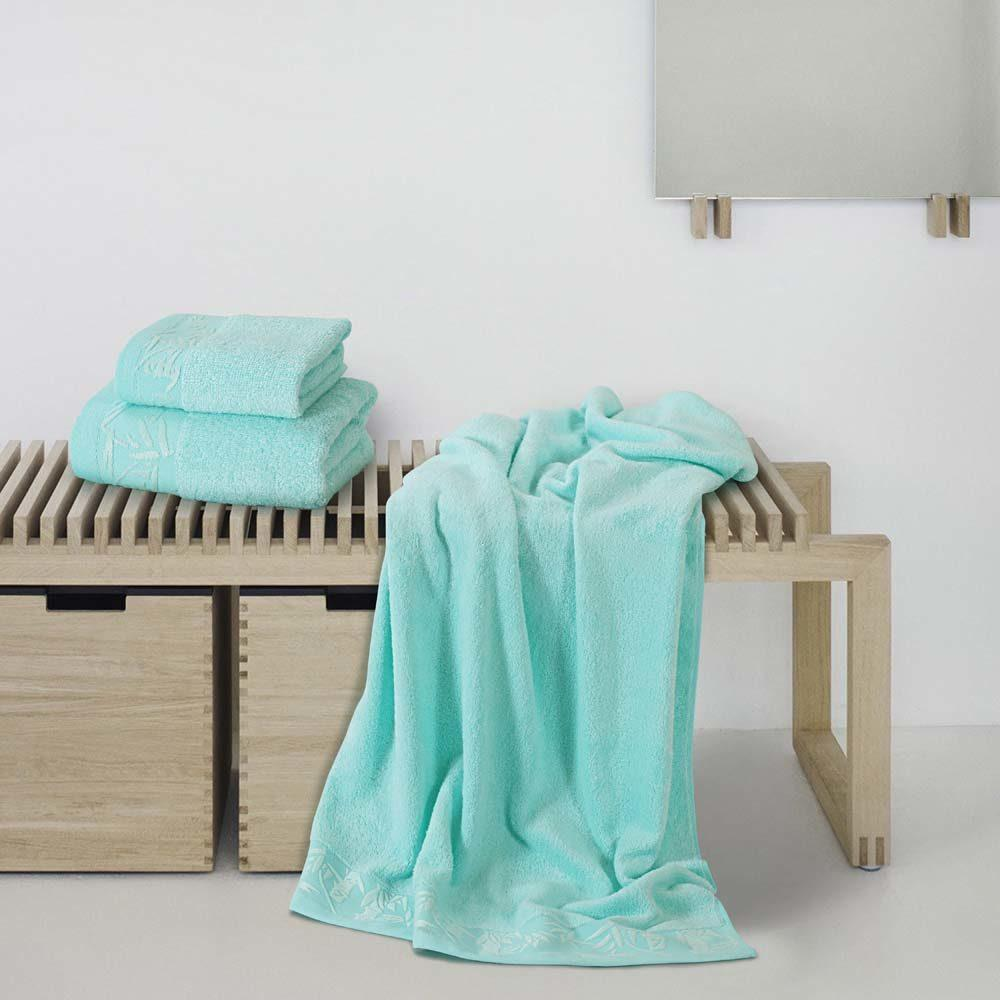Towel: (68, 277, 398, 530)
